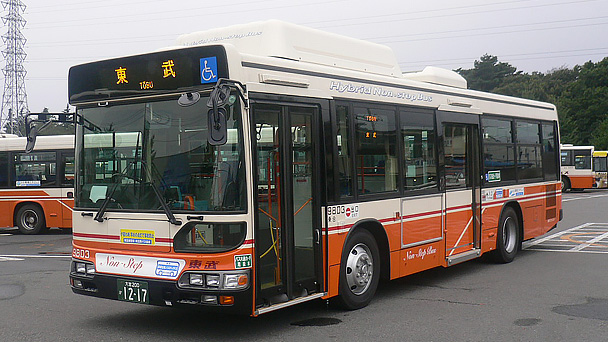destination: (94, 51, 186, 98)
